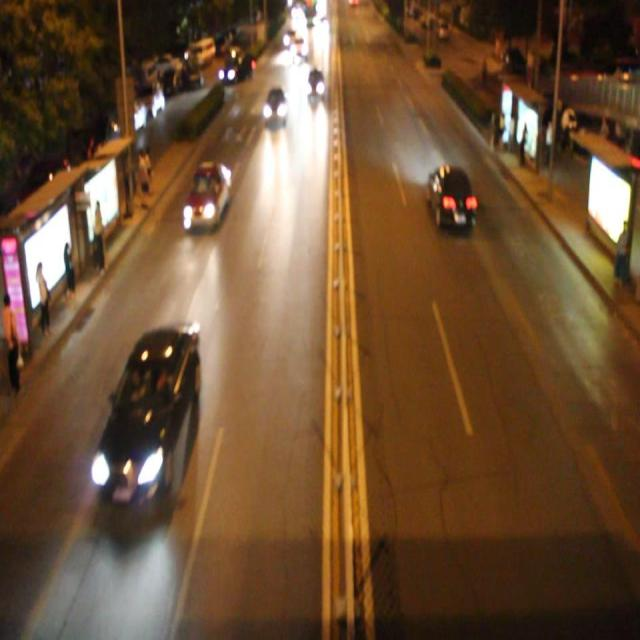car: (91, 320, 199, 513), (426, 161, 475, 229), (185, 158, 232, 228), (263, 83, 287, 121), (304, 65, 324, 97)
